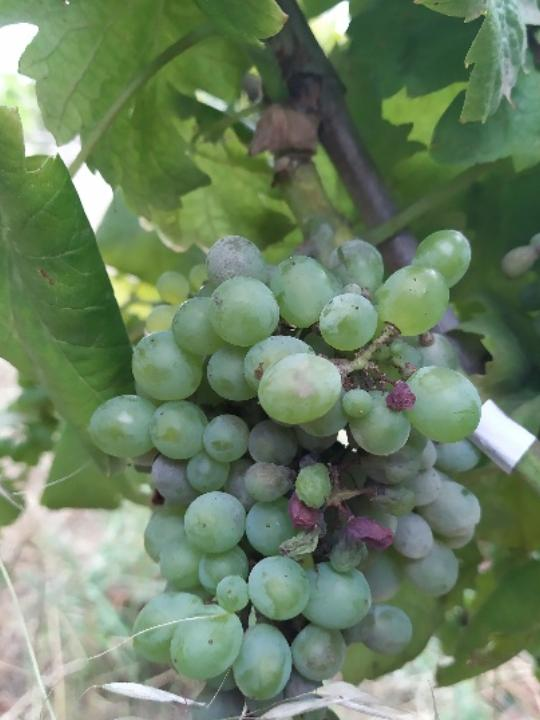grape: (83, 226, 487, 720)
